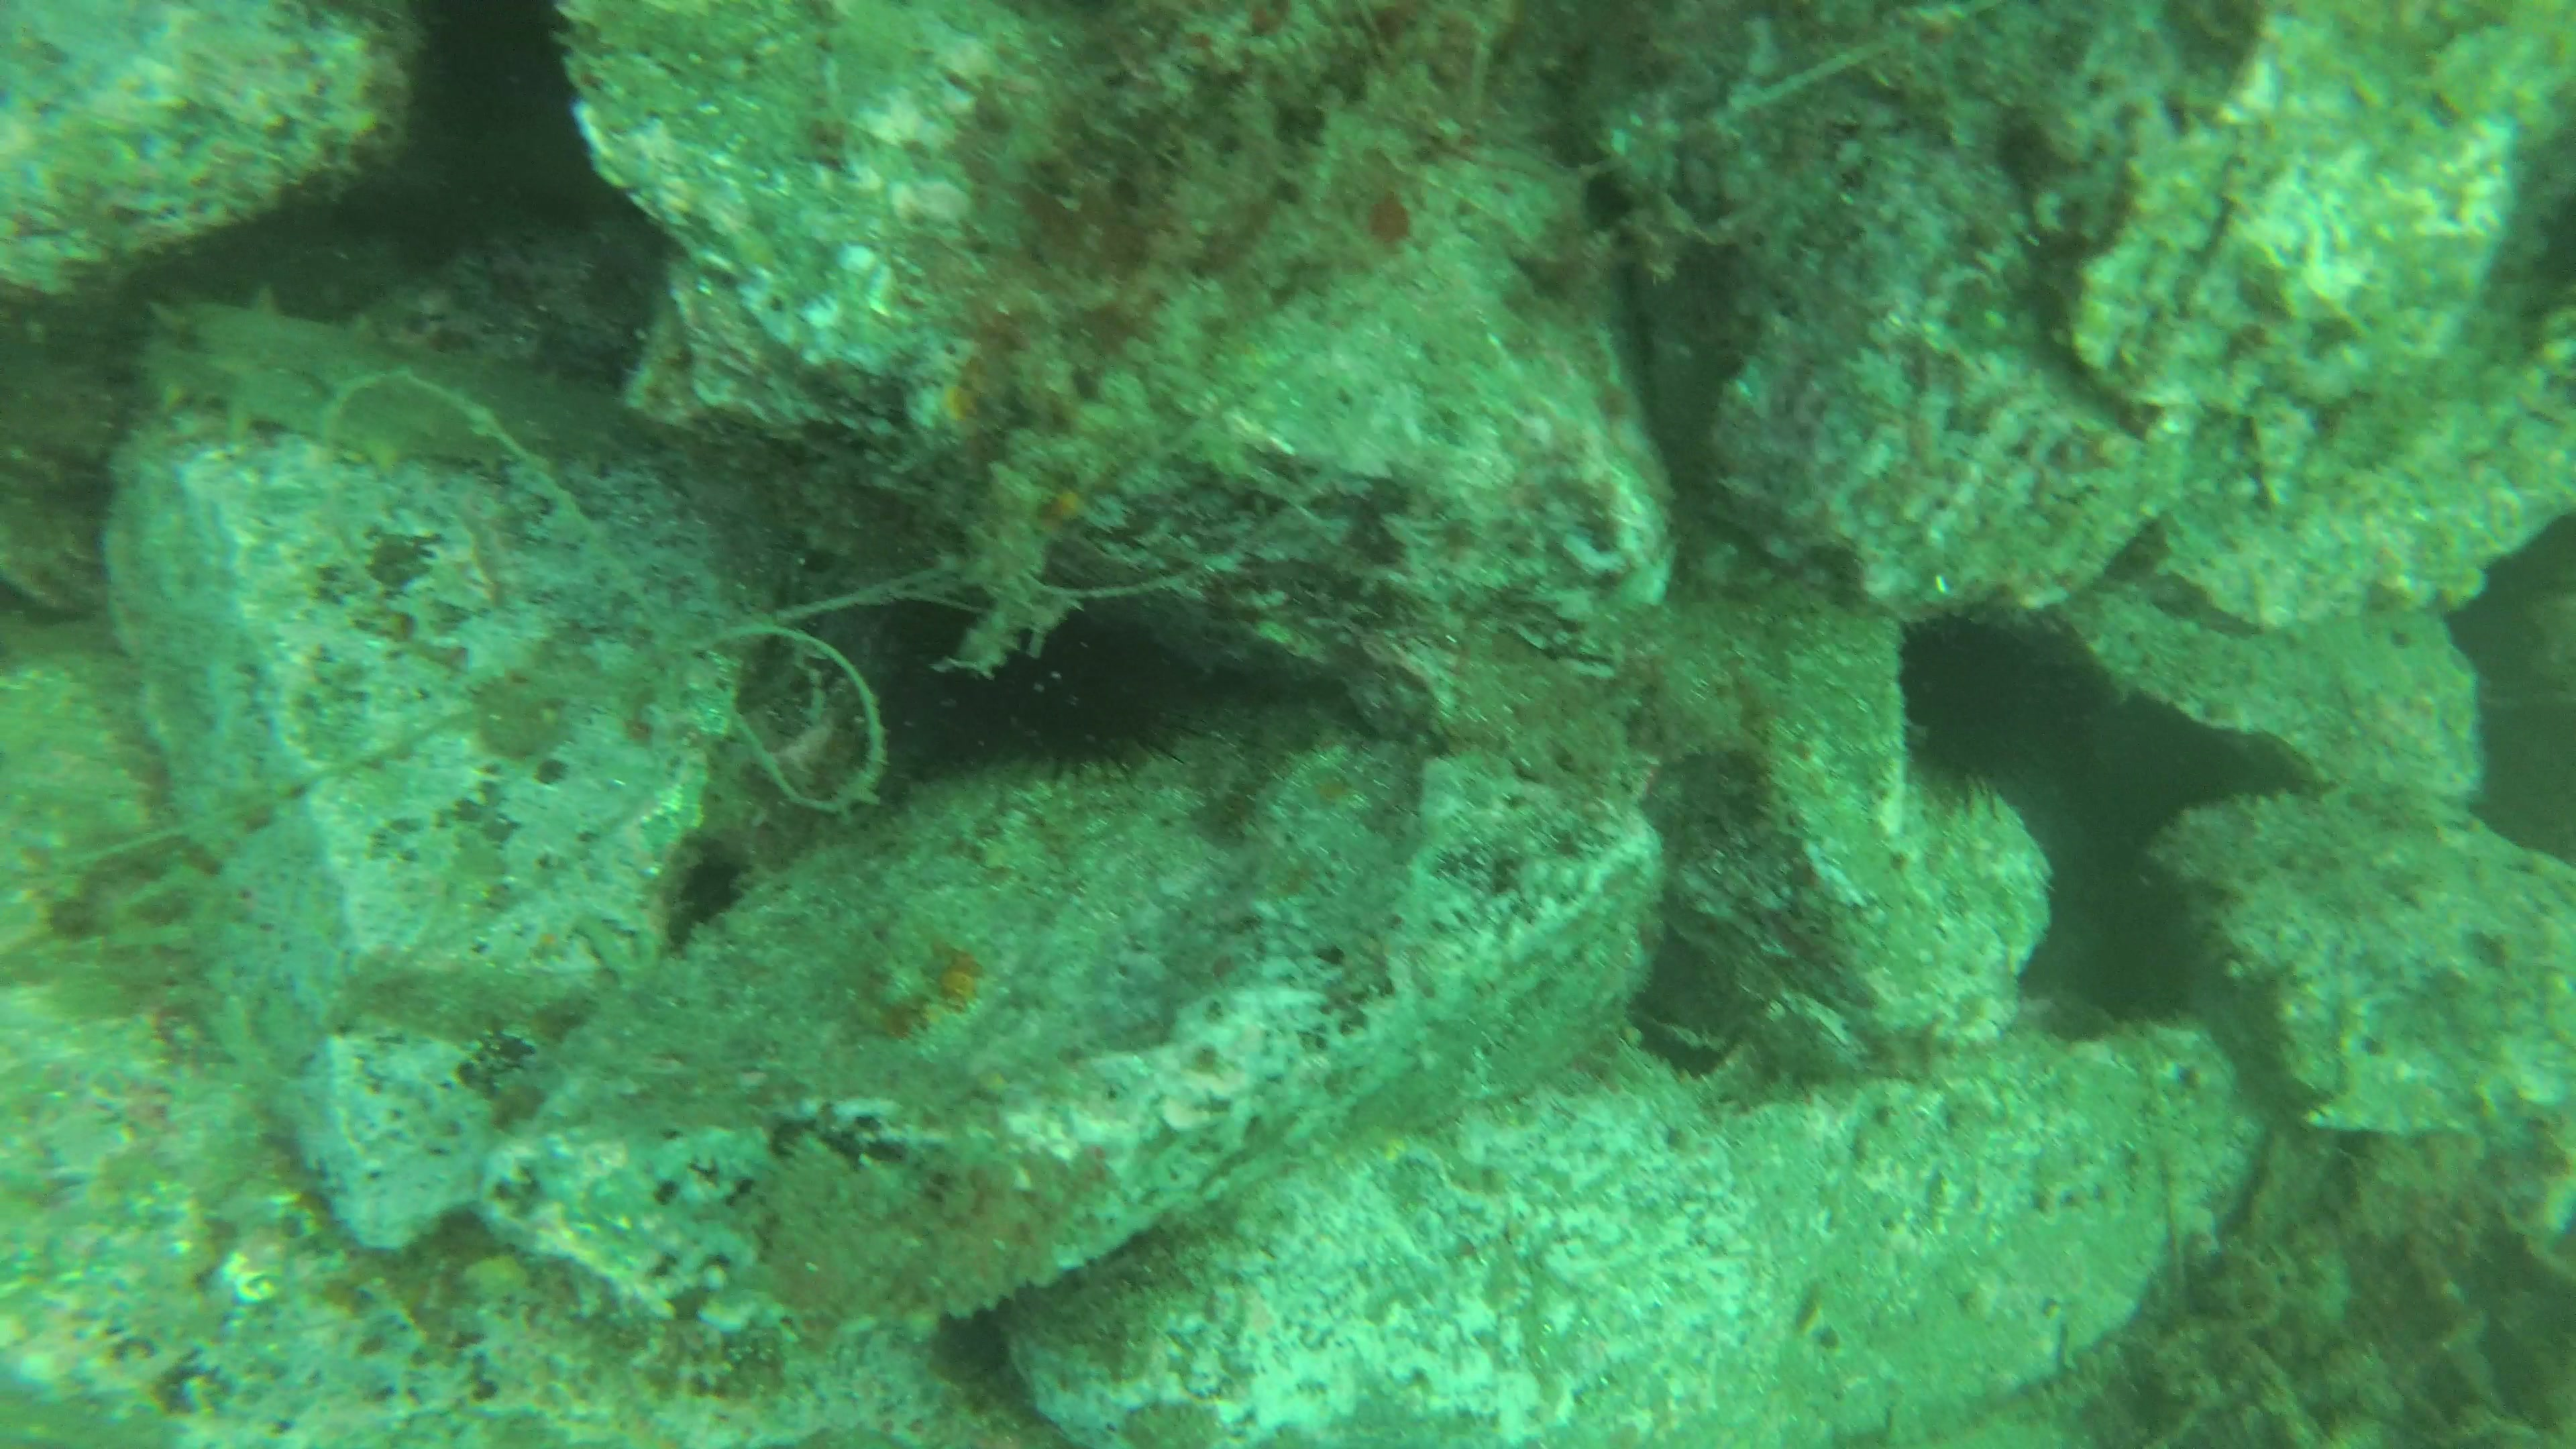echinus: (1882, 587, 2121, 794), (947, 633, 1198, 782)
holothurian: (119, 283, 646, 479)
